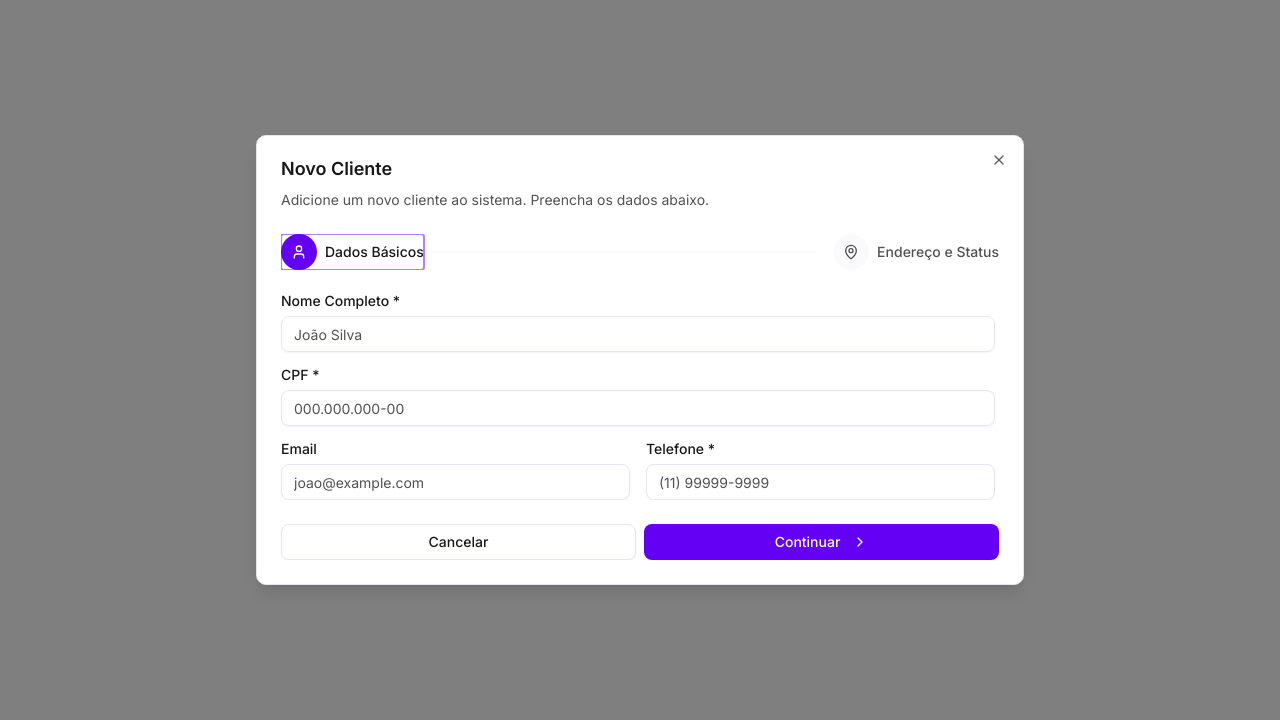
Test: ClientFormDialog - wizard de passos › does not advance when backend returns validation errors
Step 1. Type "Maria Souza" into the field labelled "Nome Completo *" → {"x": 638, "y": 334}, box [281, 316, 995, 352]
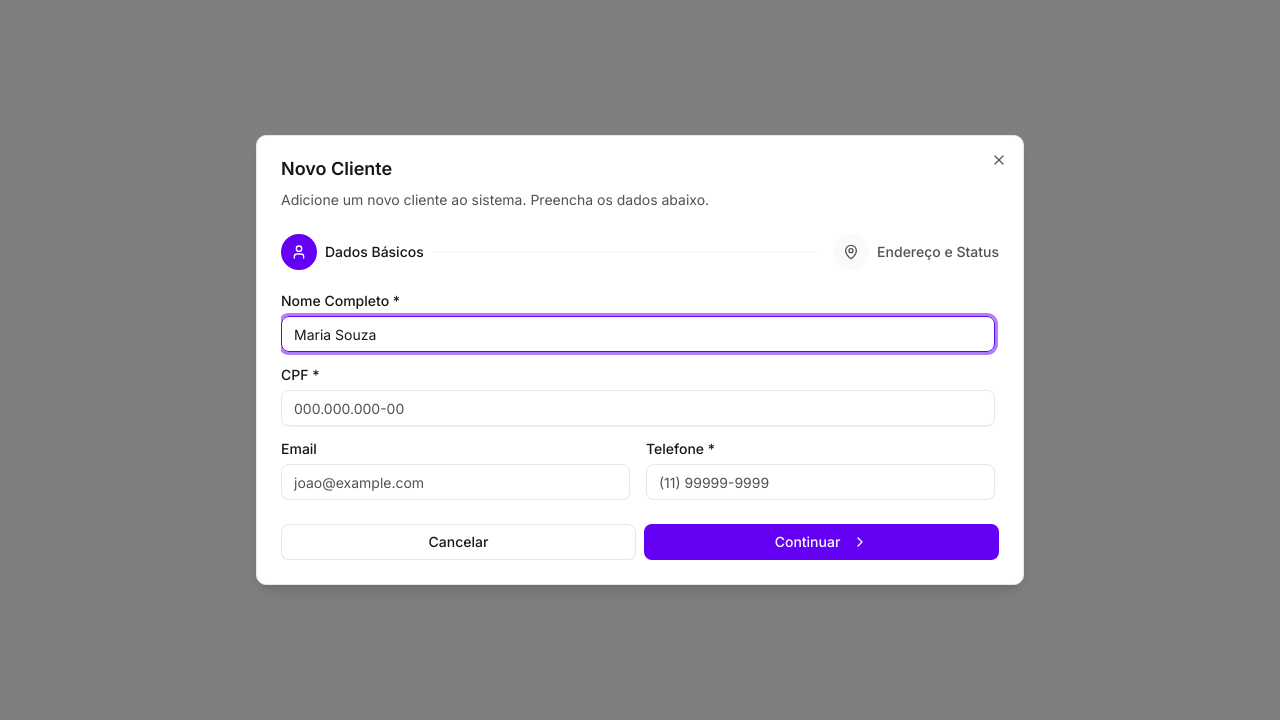
Step 2. Type "52998224725" into the field labelled "CPF *" → {"x": 638, "y": 408}, box [281, 390, 995, 426]
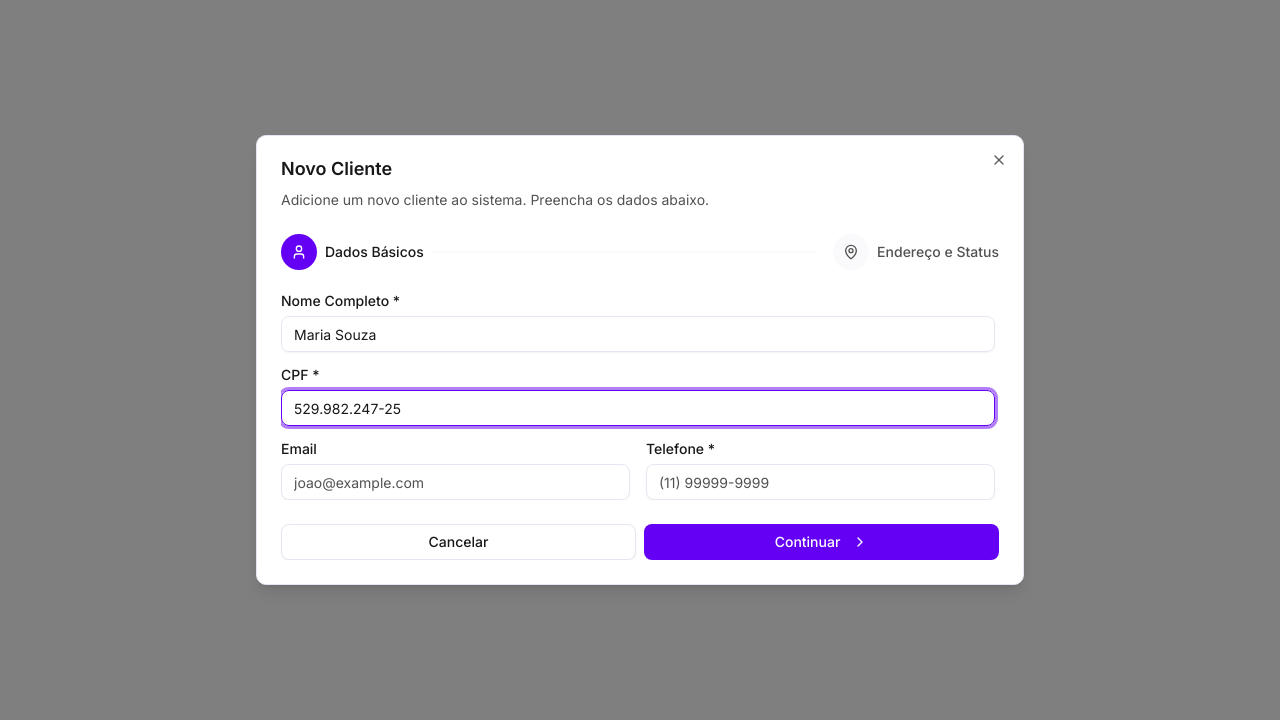
Step 3. Type "maria@example.com" into the field labelled "Email" → {"x": 456, "y": 482}, box [281, 464, 630, 500]
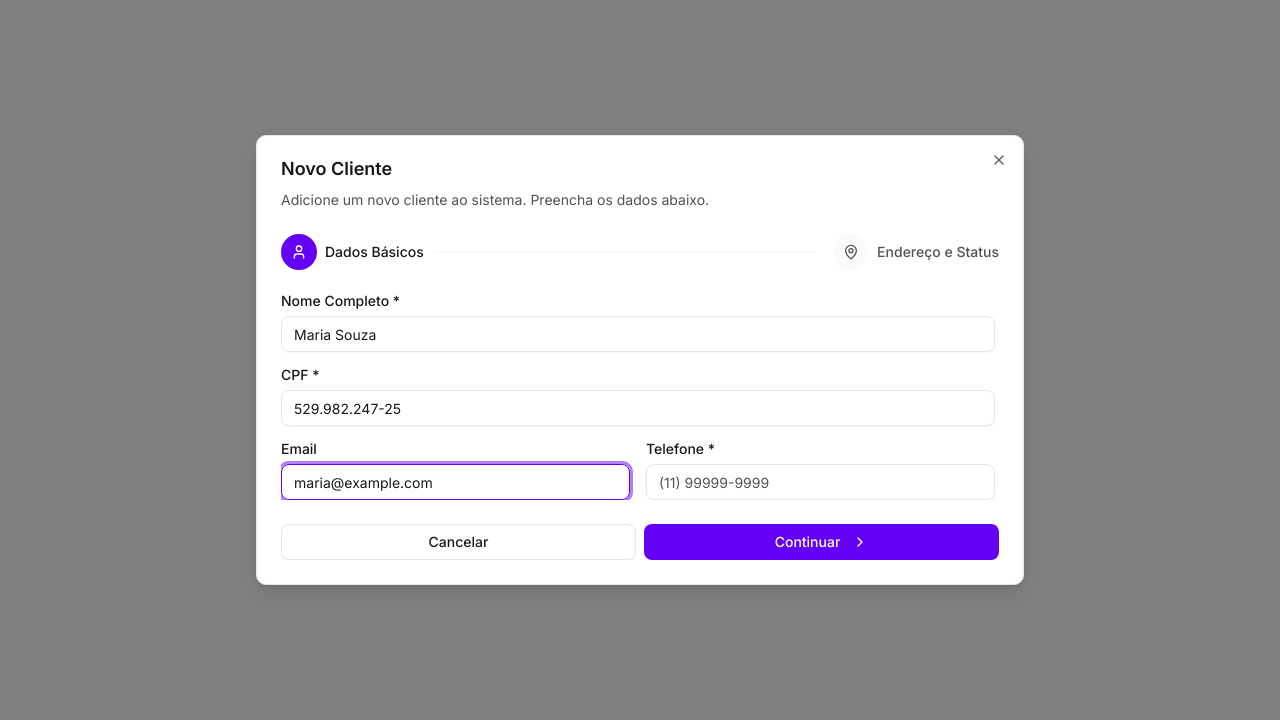
Step 4. Type "11987654321" into the field labelled "Telefone *" → {"x": 820, "y": 482}, box [646, 464, 995, 500]
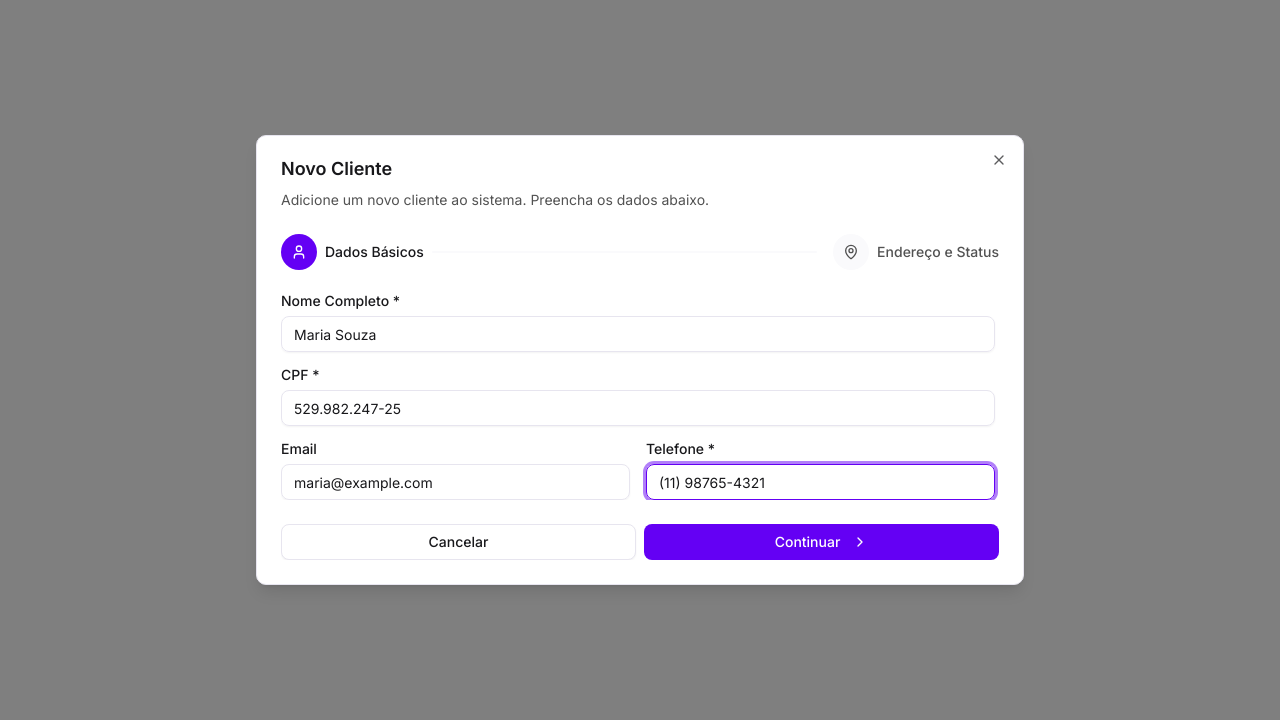
Step 5. Click the button "Continuar" → {"x": 822, "y": 542}, box [644, 524, 999, 560]
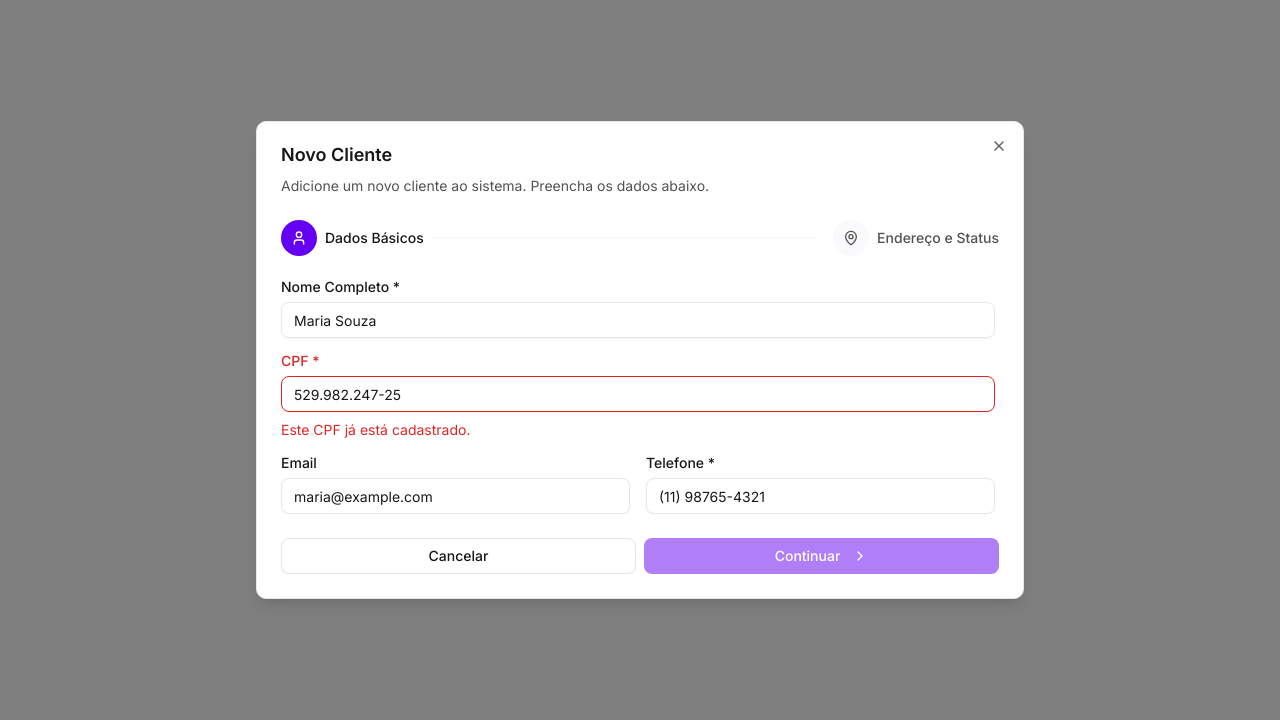
Now the text "Este CPF já está cadastrado." is shown, box [281, 421, 470, 438]
Now the button "Continuar" is disabled, box [644, 538, 999, 574]
